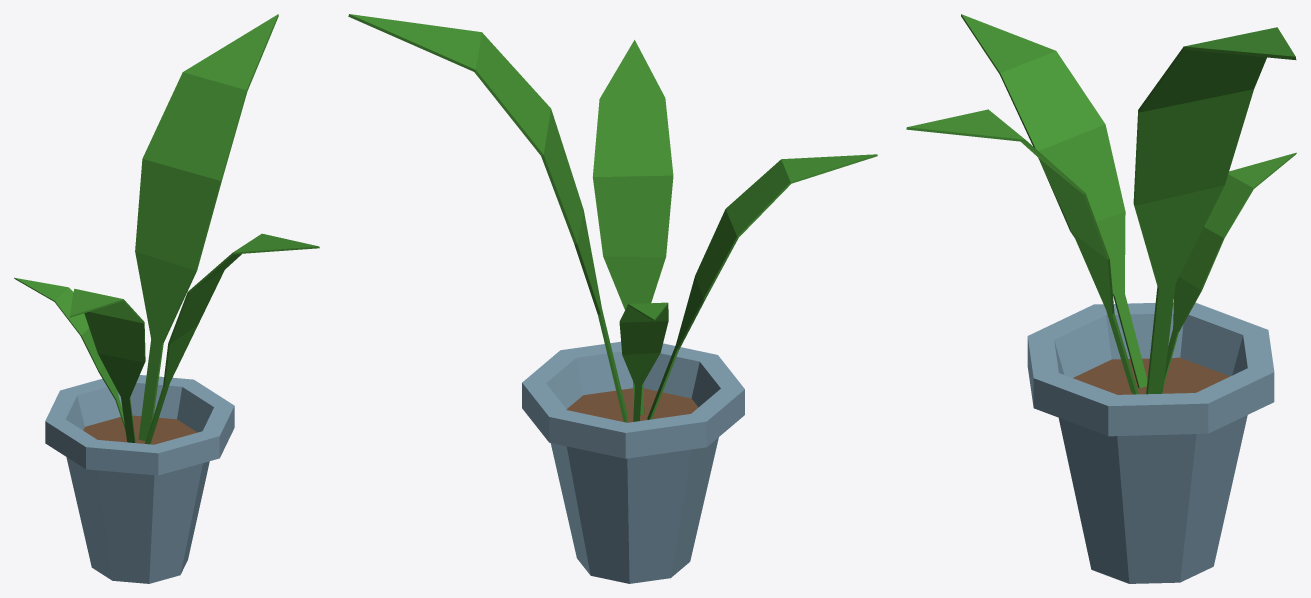
The model's file is Flower_8.fbx.
The picture shows the model from 3 angles, left to right: view 1: azimuth 30°, elevation 25°; view 2: azimuth 150°, elevation 25°; view 3: azimuth 270°, elevation 25°; orthographic projection. The views are drawn at different scales.
Parts seen in each view (by area): view 1: Flower_8; view 2: Flower_8; view 3: Flower_8.
Part boxes in pixels (x1,y1,x2,y2): Flower_8: (14, 14, 319, 583); Flower_8: (348, 14, 877, 583); Flower_8: (906, 14, 1296, 583).
Size of the model in its own units: 63.58 by 47.69 by 84.58.
